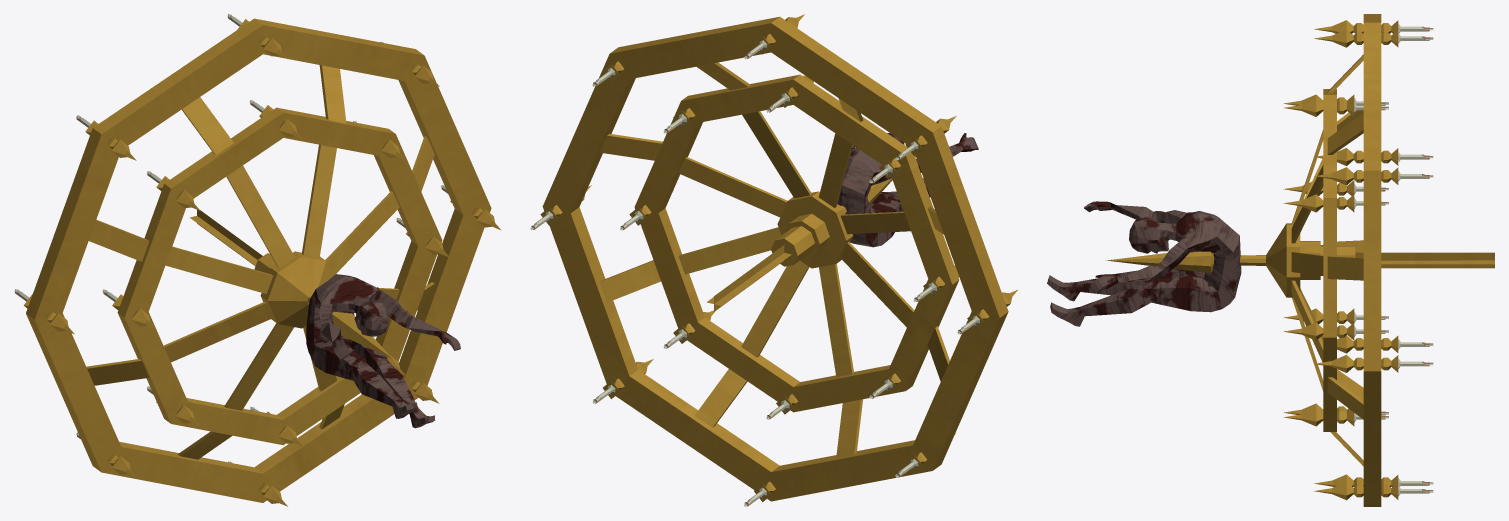
The model's file is ChandelierFix.fbx.
3 views of the same model, side by side, from view 1: azimuth 30°, elevation 25°; view 2: azimuth 150°, elevation 25°; view 3: azimuth 270°, elevation 25° (orthographic).
Visible parts, largest first — view 1: Chandelier, Body.008, Candles_Chandelier; view 2: Chandelier, Body.008, Candles_Chandelier; view 3: Chandelier, Body.008, Candles_Chandelier.
Part boxes in pixels (<box>): Chandelier: <box>23,18,501,506</box>; Body.008: <box>306,274,460,428</box>; Candles_Chandelier: <box>14,14,447,462</box>; Chandelier: <box>540,14,1018,502</box>; Body.008: <box>837,133,978,247</box>; Candles_Chandelier: <box>530,40,979,506</box>; Chandelier: <box>1106,14,1494,506</box>; Body.008: <box>1047,201,1241,326</box>; Candles_Chandelier: <box>1354,23,1433,495</box>.
Size of the model in its own units: 256 by 300 by 300.
